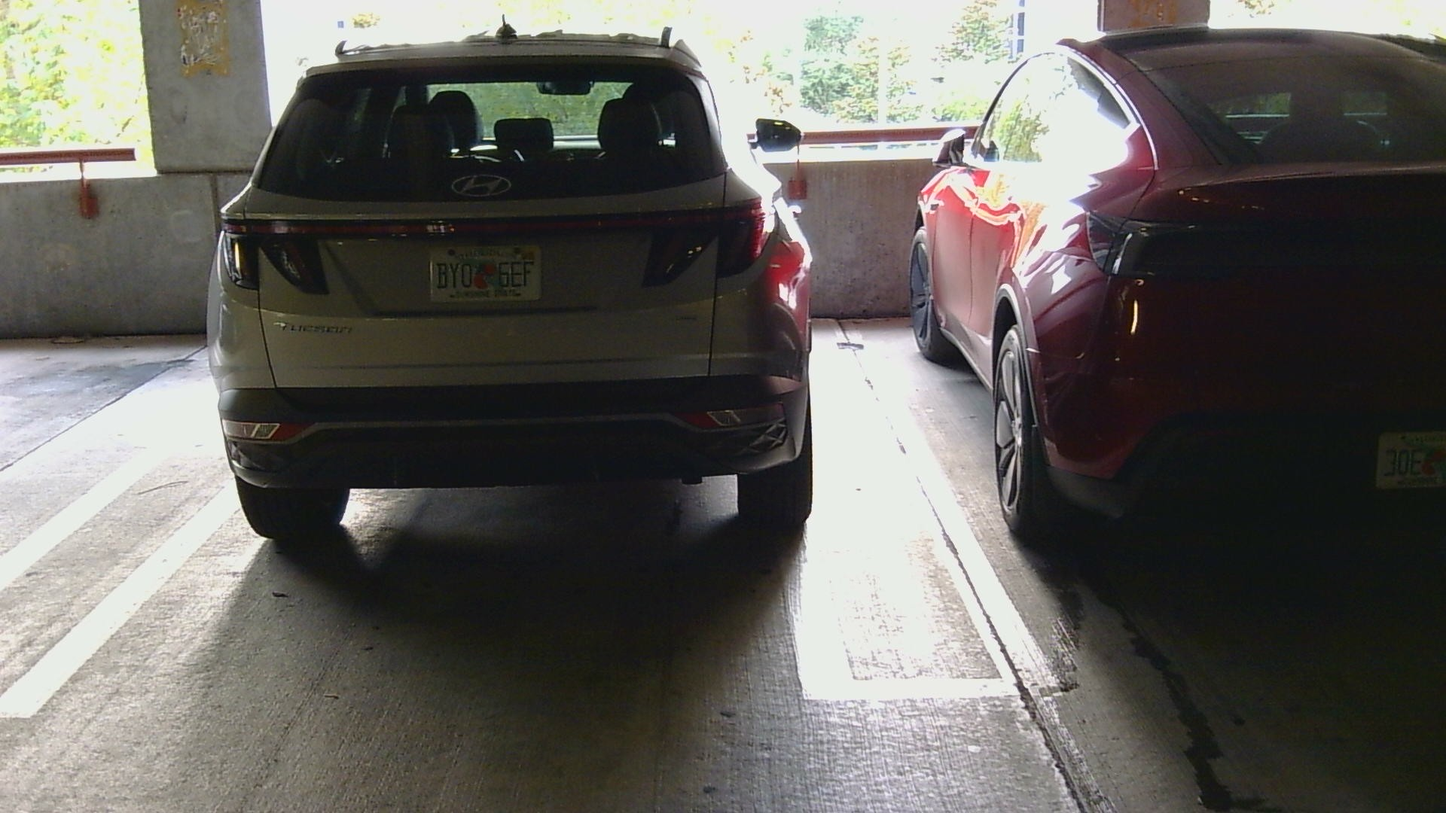occupied_spot: (59, 0, 861, 667), (842, 18, 1446, 653)
